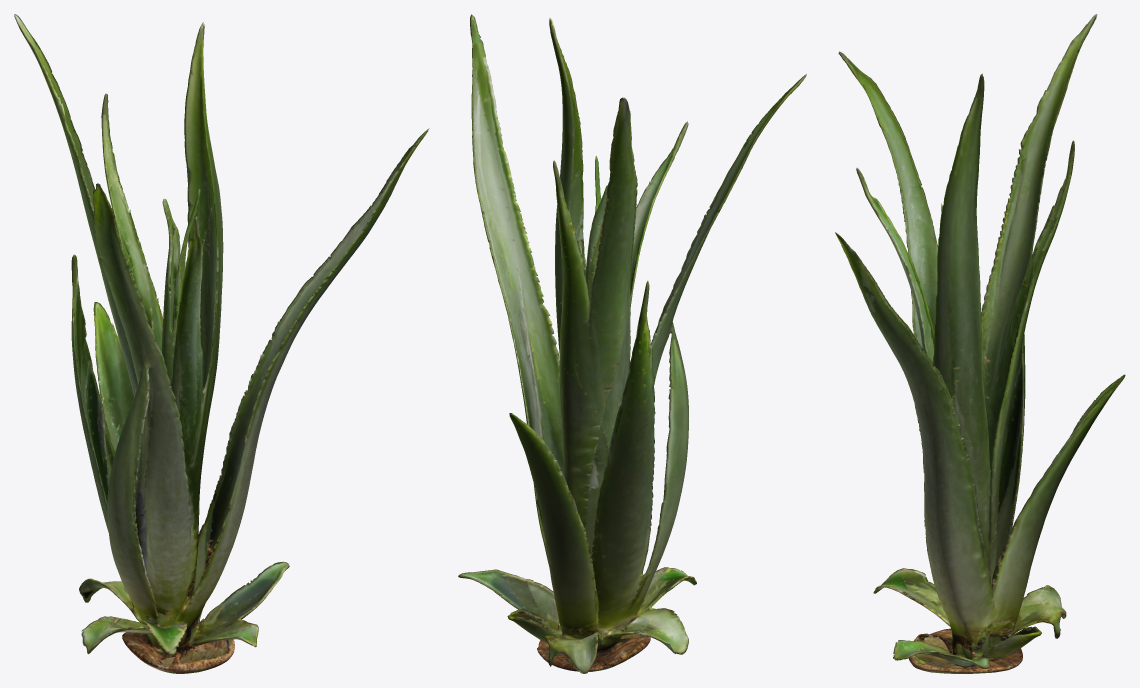
Rendered from aloevera.glb.
The picture shows the model from 3 angles, left to right: view 1: azimuth 30°, elevation 25°; view 2: azimuth 150°, elevation 25°; view 3: azimuth 270°, elevation 25°; orthographic projection. The views are drawn at different scales.
Bounding box in the file's own units: 1.11 × 2 × 0.862.
Materials: 1 (1 with a texture image).
